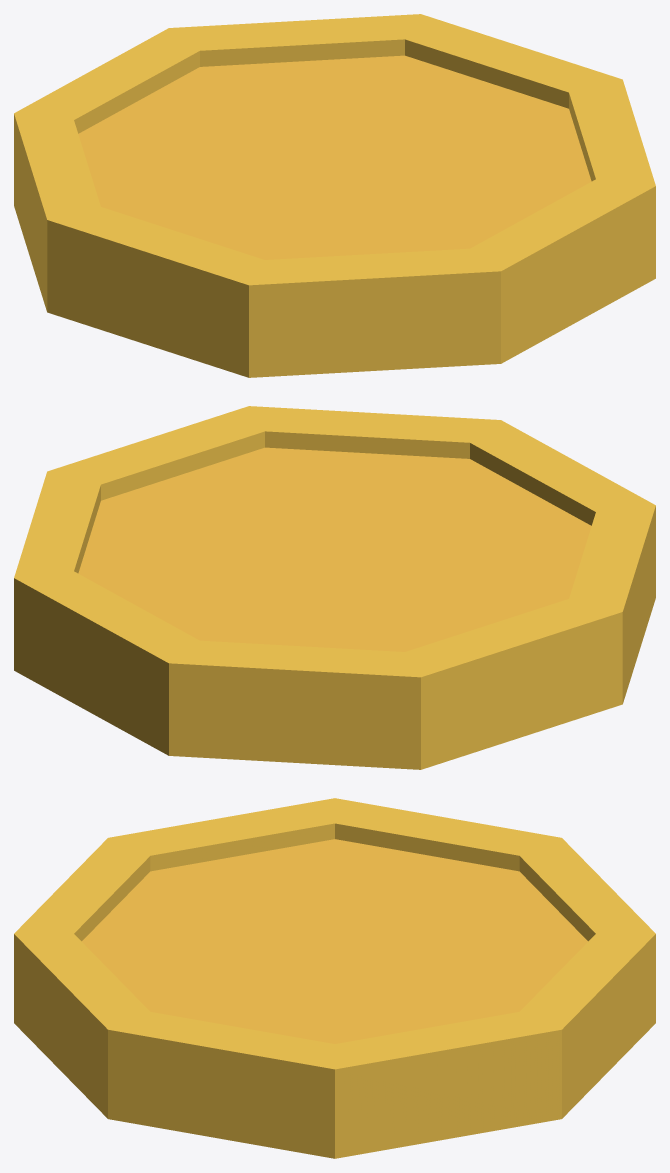
The model's file is pixel_coin_lowpoly.fbx.
3 views of the same model, one above another, from view 1: azimuth 30°, elevation 25°; view 2: azimuth 150°, elevation 25°; view 3: azimuth 270°, elevation 25° (orthographic). The views are drawn at different scales.
Parts seen in each view (by area): view 1: psx_coin_border, psx_coin_base; view 2: psx_coin_border, psx_coin_base; view 3: psx_coin_border, psx_coin_base.
Part boxes in pixels (x1=…): psx_coin_border: x1=14, y1=14, x2=655, y2=377; psx_coin_base: x1=78, y1=55, x2=591, y2=259; psx_coin_border: x1=14, y1=406, x2=655, y2=769; psx_coin_base: x1=78, y1=447, x2=591, y2=651; psx_coin_border: x1=14, y1=798, x2=655, y2=1158; psx_coin_base: x1=82, y1=839, x2=587, y2=1043.
Bounding box in the file's own units: 200 × 30.74 × 200.
